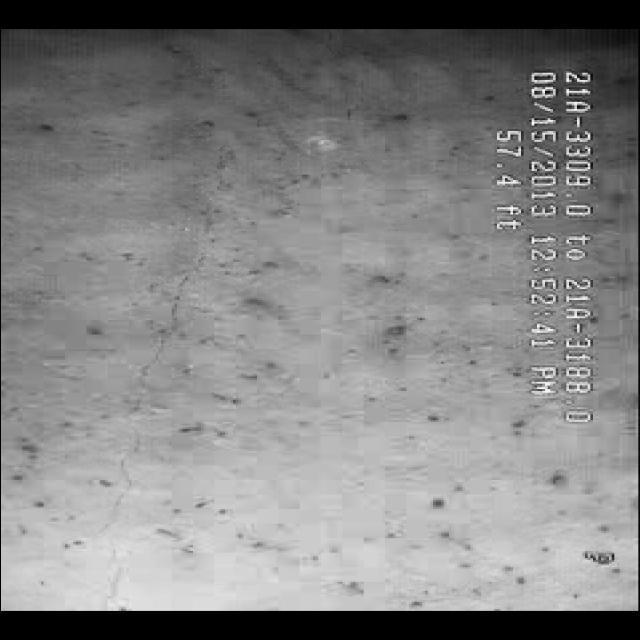Crack: (71, 227, 256, 589)
